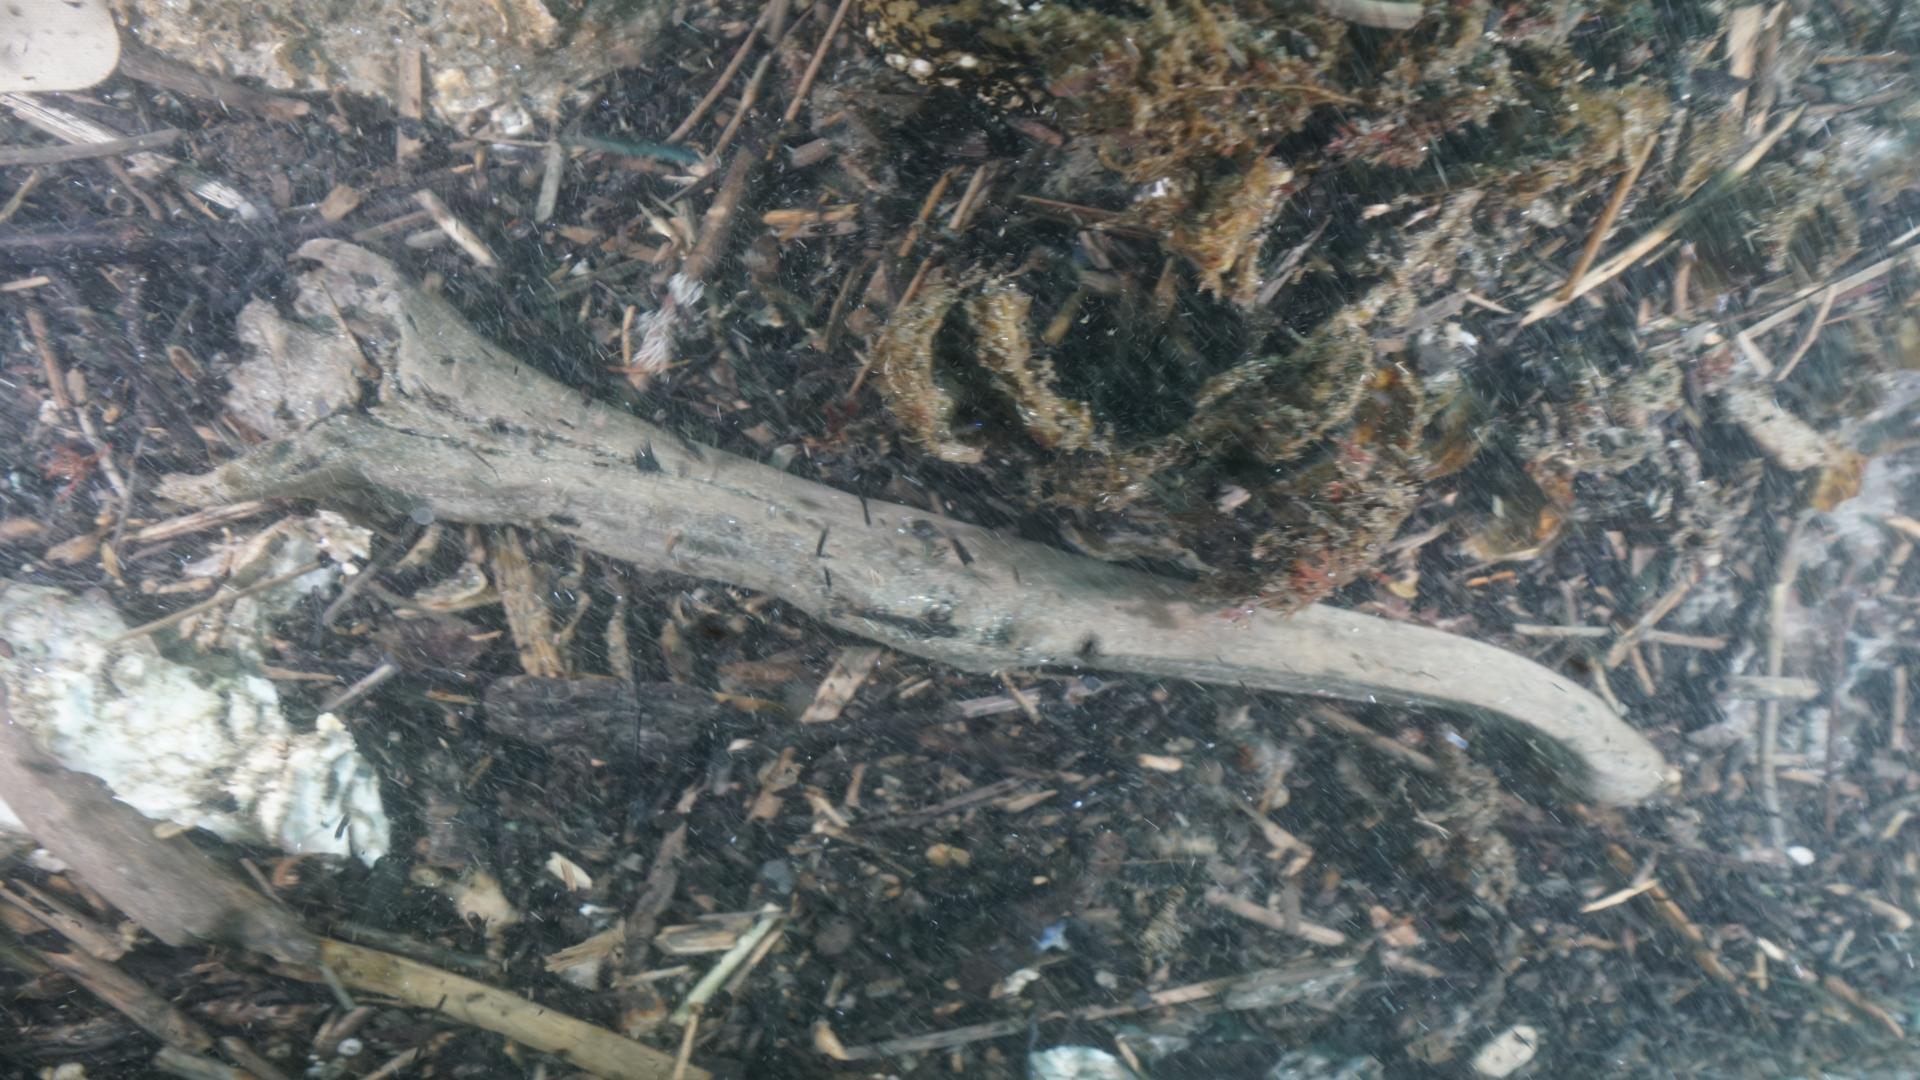wood: (219, 235, 1668, 808)
